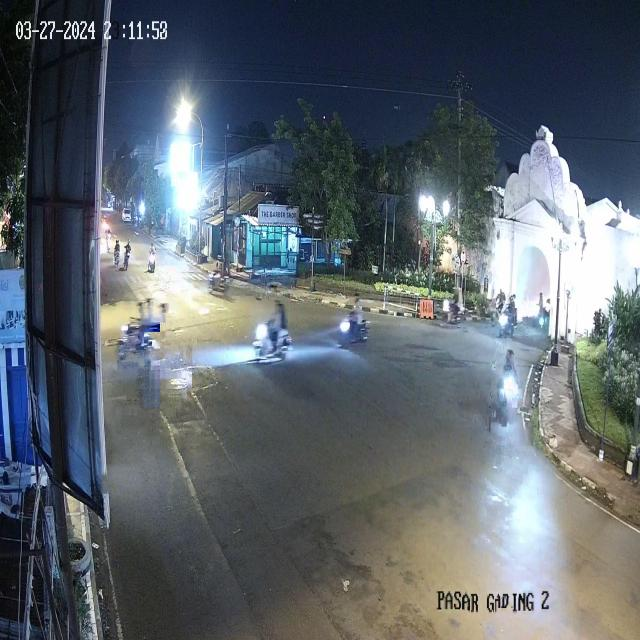car: (120, 206, 132, 223)
motorcycle: (115, 303, 170, 362), (250, 300, 292, 367), (337, 301, 371, 347), (498, 348, 517, 428), (208, 253, 233, 297), (439, 287, 464, 328), (498, 297, 520, 338), (538, 297, 554, 337), (146, 241, 158, 277), (123, 240, 133, 270), (113, 237, 122, 266), (105, 228, 113, 256), (101, 210, 108, 237)
